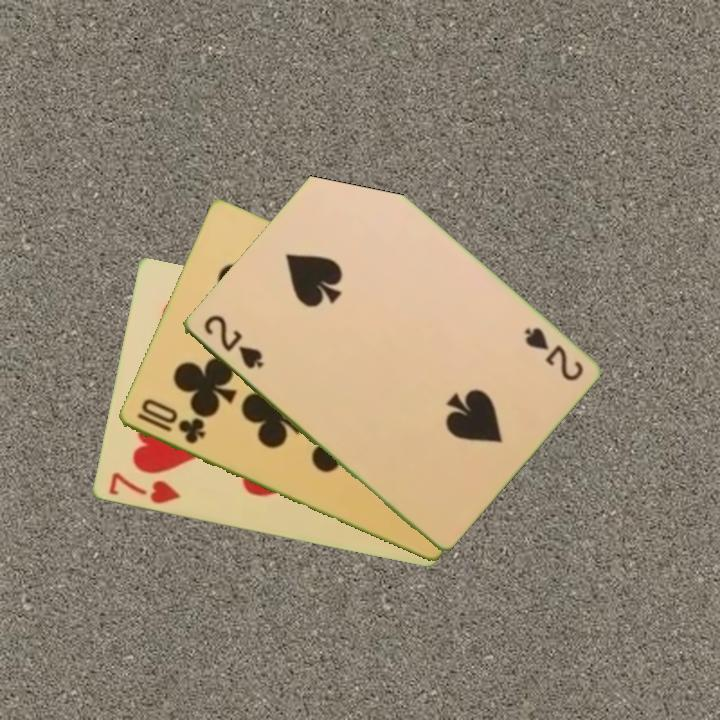10c: (132, 395, 208, 448)
2s: (199, 311, 266, 372), (519, 323, 586, 384)
7h: (104, 469, 183, 507)
